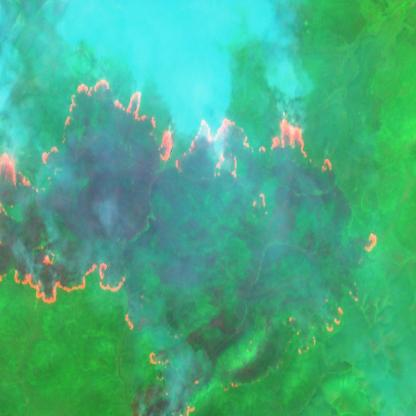fire: (176, 120, 334, 216), (43, 64, 172, 178), (0, 251, 141, 336), (145, 325, 242, 416), (285, 280, 360, 359), (0, 150, 49, 218), (360, 226, 378, 258)
